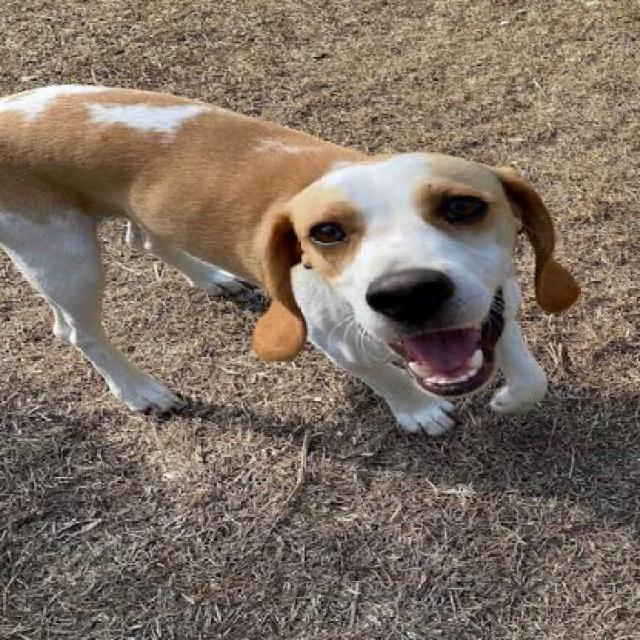Dog: (5, 83, 588, 443)
